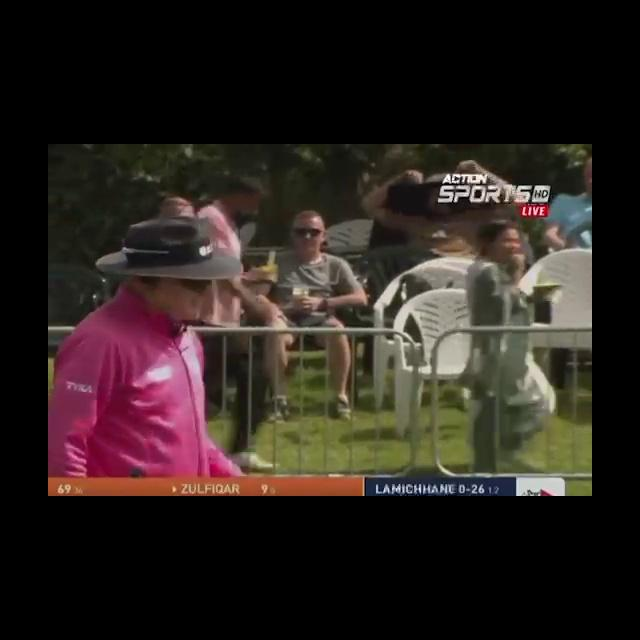umpire: (54, 170, 293, 468)
